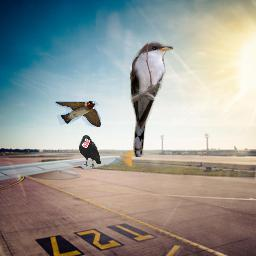Crow: (79, 135, 101, 168)
Cuckoo: (129, 41, 173, 157)
Swallow: (55, 101, 101, 127)
